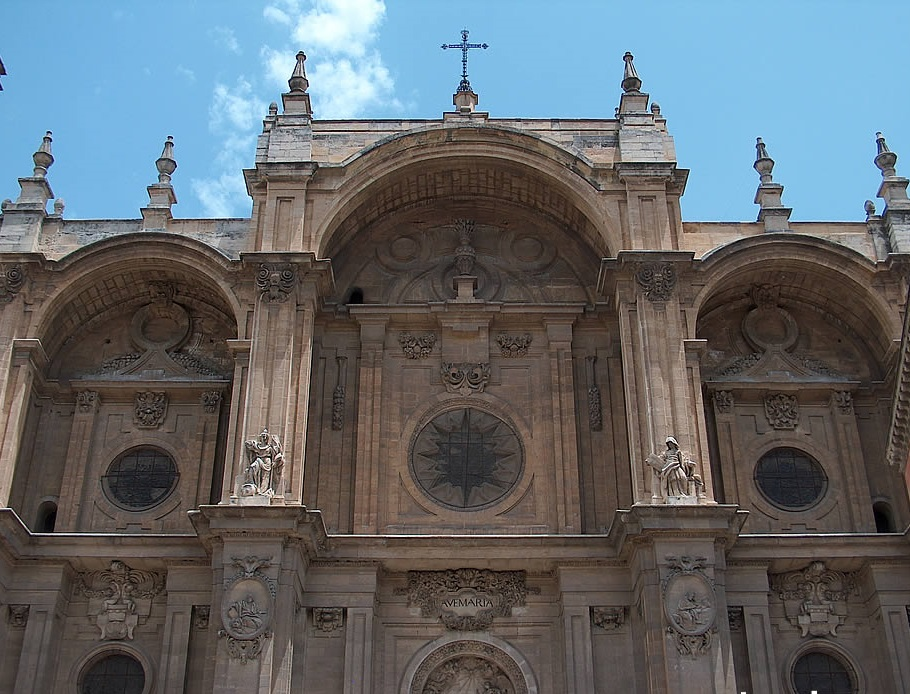arco-medio-punto: (299, 145, 627, 302), (26, 252, 246, 376), (687, 250, 904, 374)
ojo-de-buey: (748, 443, 829, 510), (102, 441, 180, 506), (69, 639, 152, 694), (784, 639, 857, 694)
